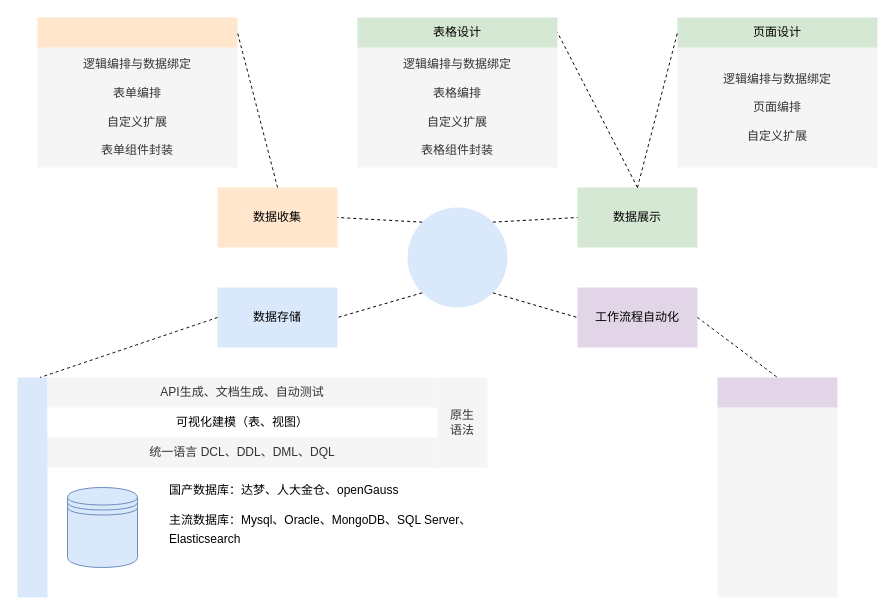
The diagram is 894 pixels wide and 614 high, and some of its shapes have lost their labels. Each missing label, with the box of its shape:
数 据 建 模: (17, 377, 47, 597)
数据库: (66, 486, 138, 568)
数据管理 与 工作流程自动化 业务: (407, 207, 507, 307)
流程设计: (717, 377, 837, 407)
流程设计 流程建模 流程执行 流程监控 流程优化: (717, 407, 837, 597)
表单设计: (37, 17, 237, 47)
